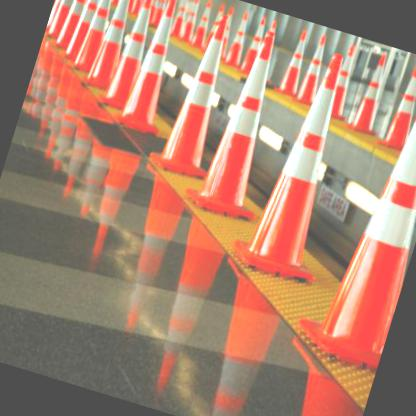cone: (287, 63, 415, 379), (228, 40, 379, 285), (180, 17, 308, 221), (146, 3, 250, 180), (108, 0, 197, 136), (94, 0, 165, 111), (79, 0, 142, 91), (338, 46, 398, 138), (371, 56, 415, 153), (65, 0, 122, 73), (288, 28, 334, 107), (272, 24, 314, 97), (48, 0, 97, 52), (222, 5, 255, 66), (183, 0, 218, 48), (175, 0, 203, 42)
